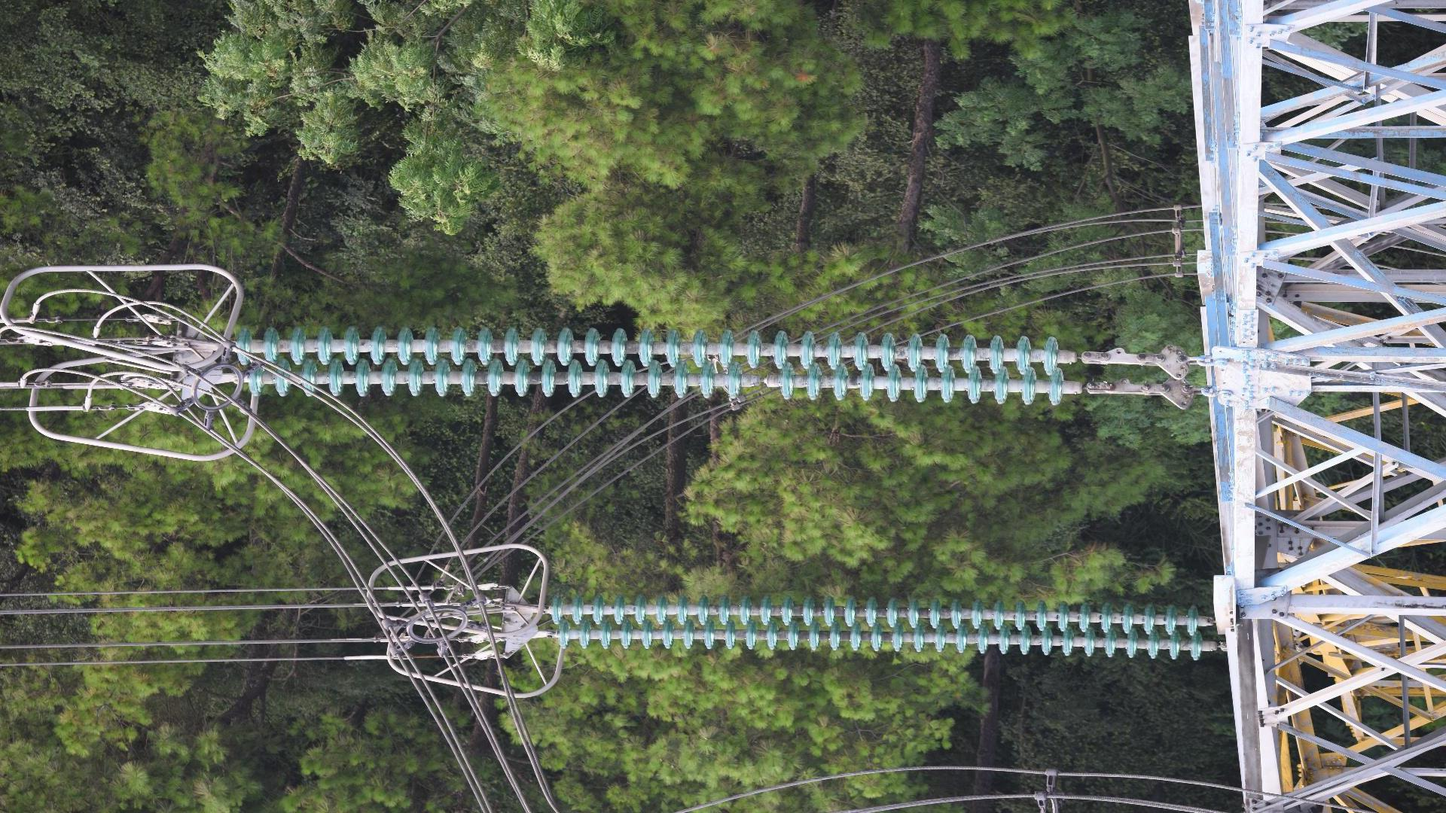insulator: (230, 321, 1072, 411), (544, 587, 1207, 668)
insulator_stringdrop: (725, 360, 798, 403)
